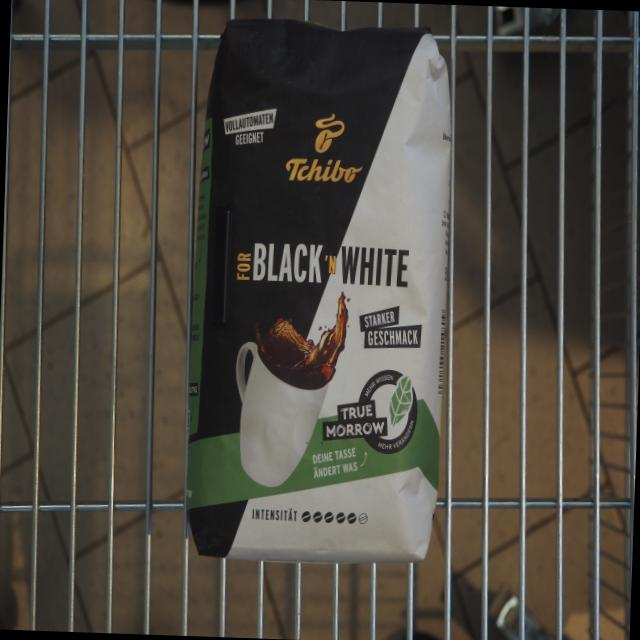BW Bohne: (176, 12, 458, 570)
